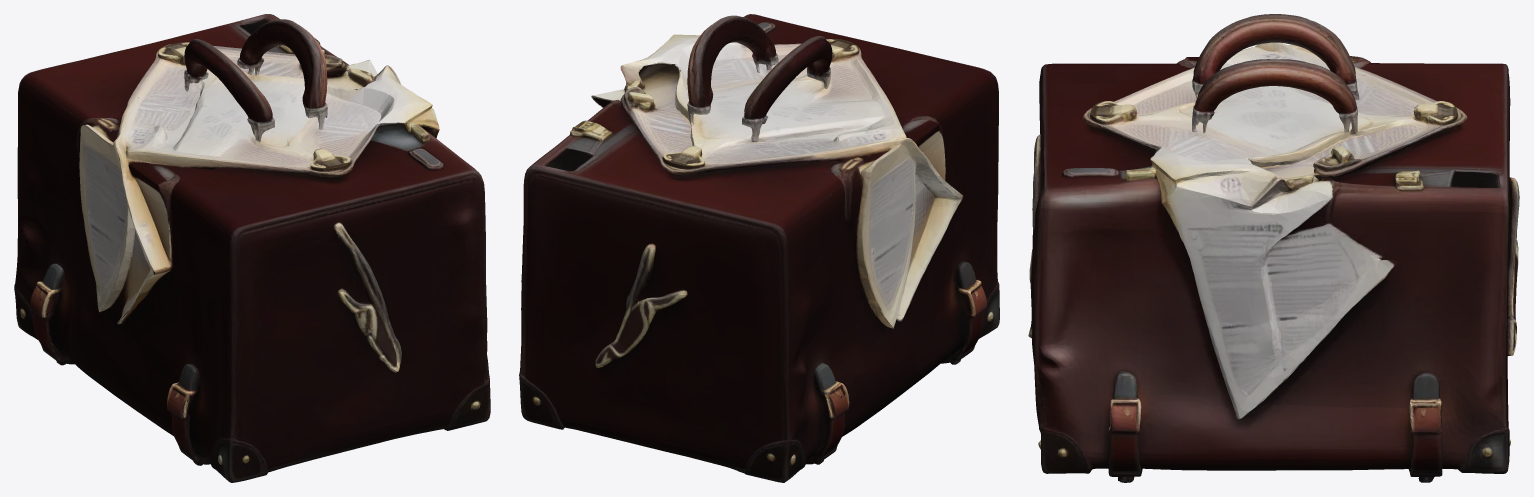
The model's file is briefcase.glb.
3 renders of one model, left to right at view 1: azimuth 30°, elevation 25°; view 2: azimuth 150°, elevation 25°; view 3: azimuth 270°, elevation 25°, orthographic. The views are drawn at different scales.
Parts seen in each view (by area): view 1: geometry_0; view 2: geometry_0; view 3: geometry_0.
Part boxes in pixels (x1,y1,x2,y2): geometry_0: (14,14,490,482); geometry_0: (519,14,999,482); geometry_0: (1028,14,1519,482).
Bounding box in the file's own units: 0.7689 × 0.8561 × 0.9947.
1 material, 1 textured.
